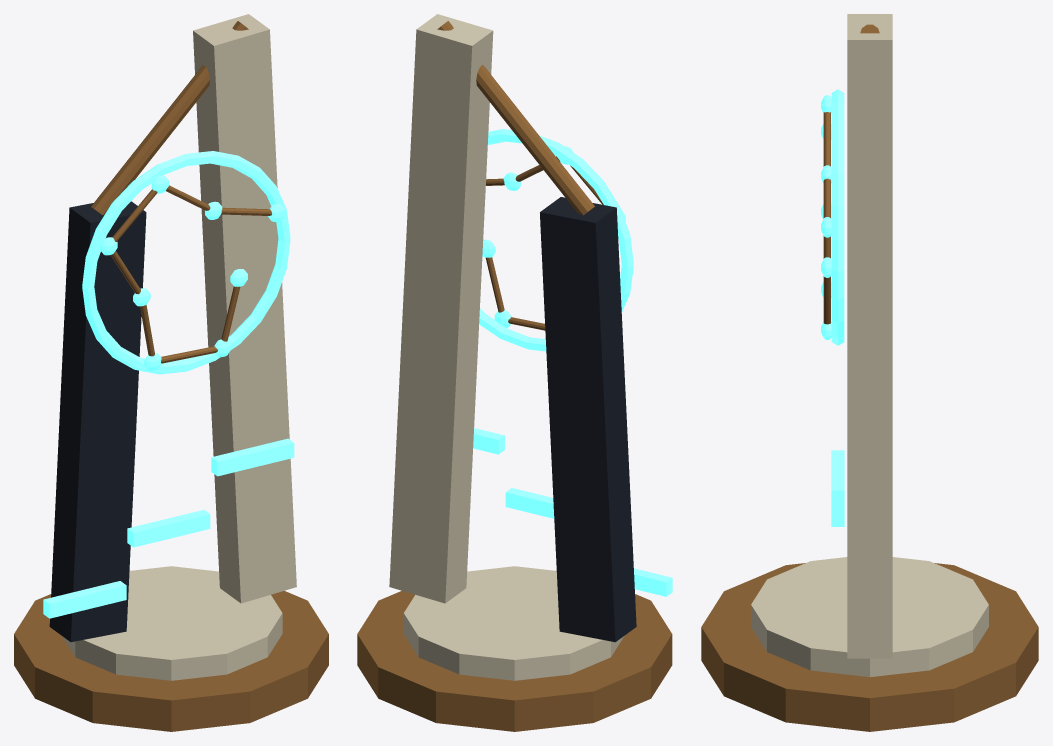
The model's file is runtime.glb.
3 views of the same model, side by side, from view 1: azimuth 30°, elevation 25°; view 2: azimuth 150°, elevation 25°; view 3: azimuth 270°, elevation 25° (orthographic). The views are drawn at different scales.
Visible parts, largest first — view 1: aetherion-zodiac-stele-v07_right_pier_nocol, aetherion-zodiac-stele-v07_left_pier_nocol, aetherion-zodiac-stele-v07_foot_nocol, aetherion-zodiac-stele-v07_plinth_nocol, aetherion-zodiac-stele-v07_primary_orbit_nocol, aetherion-zodiac-stele-v07_fork_link_nocol, aetherion-zodiac-stele-v07_rise_1_nocol, aetherion-zodiac-stele-v07_rise_0_nocol, aetherion-zodiac-stele-v07_rise_2_nocol; view 2: aetherion-zodiac-stele-v07_right_pier_nocol, aetherion-zodiac-stele-v07_left_pier_nocol, aetherion-zodiac-stele-v07_foot_nocol, aetherion-zodiac-stele-v07_plinth_nocol, aetherion-zodiac-stele-v07_primary_orbit_nocol, aetherion-zodiac-stele-v07_fork_link_nocol, aetherion-zodiac-stele-v07_rise_1_nocol, aetherion-zodiac-stele-v07_rise_0_nocol, aetherion-zodiac-stele-v07_rise_2_nocol; view 3: aetherion-zodiac-stele-v07_right_pier_nocol, aetherion-zodiac-stele-v07_foot_nocol, aetherion-zodiac-stele-v07_plinth_nocol, aetherion-zodiac-stele-v07_primary_orbit_nocol, aetherion-zodiac-stele-v07_rise_2_nocol.
Part boxes in pixels (bbox=[...]): aetherion-zodiac-stele-v07_right_pier_nocol: bbox=[193, 14, 296, 603]; aetherion-zodiac-stele-v07_left_pier_nocol: bbox=[49, 201, 146, 642]; aetherion-zodiac-stele-v07_foot_nocol: bbox=[14, 591, 328, 731]; aetherion-zodiac-stele-v07_plinth_nocol: bbox=[62, 566, 282, 680]; aetherion-zodiac-stele-v07_primary_orbit_nocol: bbox=[82, 151, 290, 374]; aetherion-zodiac-stele-v07_fork_link_nocol: bbox=[91, 21, 248, 215]; aetherion-zodiac-stele-v07_rise_1_nocol: bbox=[127, 510, 210, 547]; aetherion-zodiac-stele-v07_rise_0_nocol: bbox=[43, 581, 126, 618]; aetherion-zodiac-stele-v07_rise_2_nocol: bbox=[211, 438, 294, 476]; aetherion-zodiac-stele-v07_right_pier_nocol: bbox=[389, 14, 493, 603]; aetherion-zodiac-stele-v07_left_pier_nocol: bbox=[540, 197, 636, 642]; aetherion-zodiac-stele-v07_foot_nocol: bbox=[357, 591, 672, 731]; aetherion-zodiac-stele-v07_plinth_nocol: bbox=[403, 566, 624, 680]; aetherion-zodiac-stele-v07_primary_orbit_nocol: bbox=[479, 129, 633, 351]; aetherion-zodiac-stele-v07_fork_link_nocol: bbox=[437, 21, 594, 215]; aetherion-zodiac-stele-v07_rise_1_nocol: bbox=[505, 488, 554, 518]; aetherion-zodiac-stele-v07_rise_0_nocol: bbox=[634, 568, 672, 596]; aetherion-zodiac-stele-v07_rise_2_nocol: bbox=[473, 428, 504, 454]; aetherion-zodiac-stele-v07_right_pier_nocol: bbox=[847, 14, 892, 658]; aetherion-zodiac-stele-v07_foot_nocol: bbox=[701, 563, 1038, 731]; aetherion-zodiac-stele-v07_plinth_nocol: bbox=[751, 557, 988, 676]; aetherion-zodiac-stele-v07_primary_orbit_nocol: bbox=[831, 89, 844, 345]; aetherion-zodiac-stele-v07_rise_2_nocol: bbox=[831, 450, 844, 506].
Bounding box in the file's own units: 5.14 × 11.14 × 5.07.
